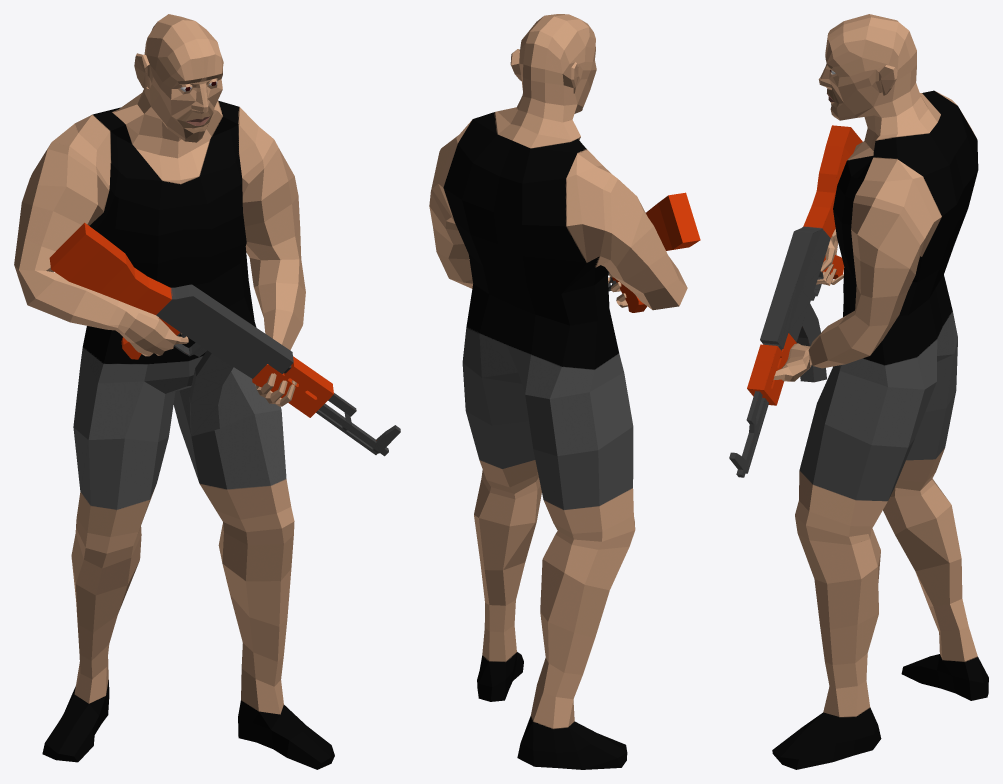
File: PlayerIdle(208).obj
3 renders of one model, left to right at view 1: azimuth 30°, elevation 25°; view 2: azimuth 150°, elevation 25°; view 3: azimuth 270°, elevation 25°, orthographic. The views are drawn at different scales.
Visible parts, largest first — view 1: Plane002, Object001; view 2: Plane002, Object001; view 3: Plane002, Object001.
Part boxes in pixels (box(x1,y1,x2,y2)): Plane002: box(14, 14, 334, 769); Object001: box(49, 222, 400, 456); Plane002: box(429, 14, 687, 769); Object001: box(608, 192, 700, 312); Plane002: box(772, 14, 988, 769); Object001: box(729, 125, 862, 477).
Bounding box in the file's own units: 751 × 1798 × 604.
